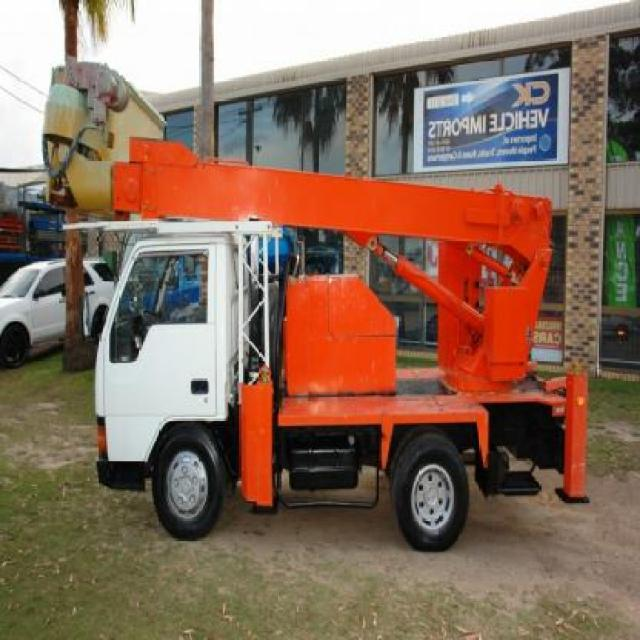truck: (96, 137, 593, 554)
